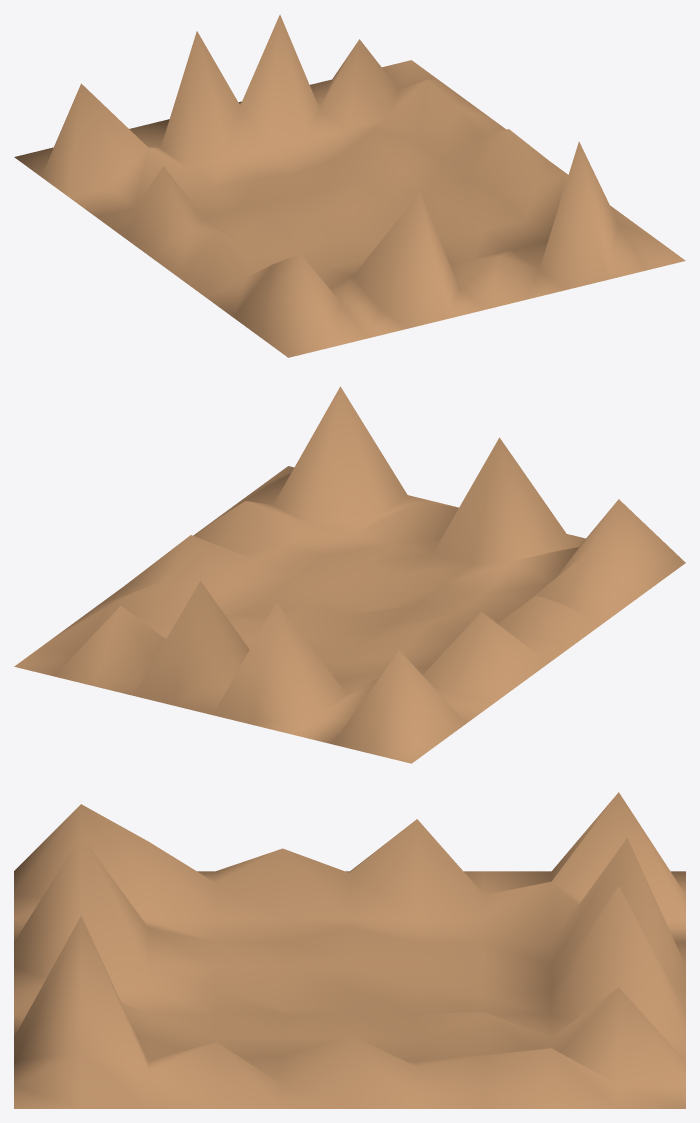
Rendered from environment.fbx.
The picture shows the model from 3 angles, top to bottom: view 1: azimuth 30°, elevation 25°; view 2: azimuth 150°, elevation 25°; view 3: azimuth 270°, elevation 25°; orthographic projection. The views are drawn at different scales.
Parts seen in each view (by area): view 1: pPlane1; view 2: pPlane1; view 3: pPlane1.
Boxes of the visible parts, <box> form: pPlane1: <box>14,14,685,357</box>; pPlane1: <box>14,386,685,763</box>; pPlane1: <box>14,792,685,1108</box>.
Size of the model in its own units: 159 by 52.02 by 190.
